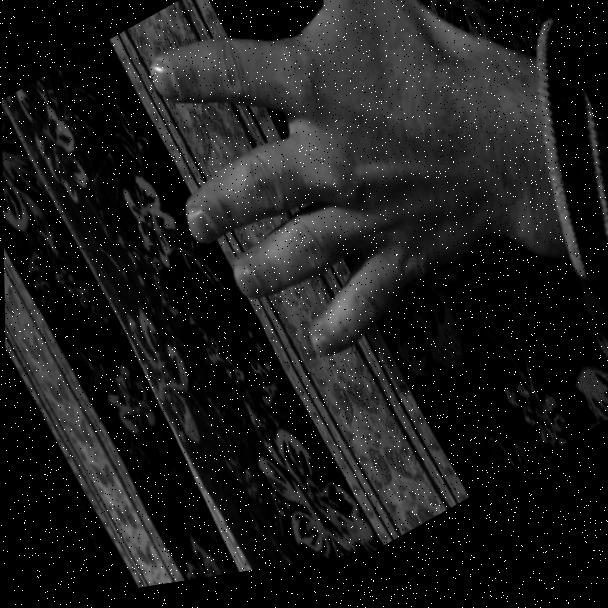four: (125, 0, 540, 452)
